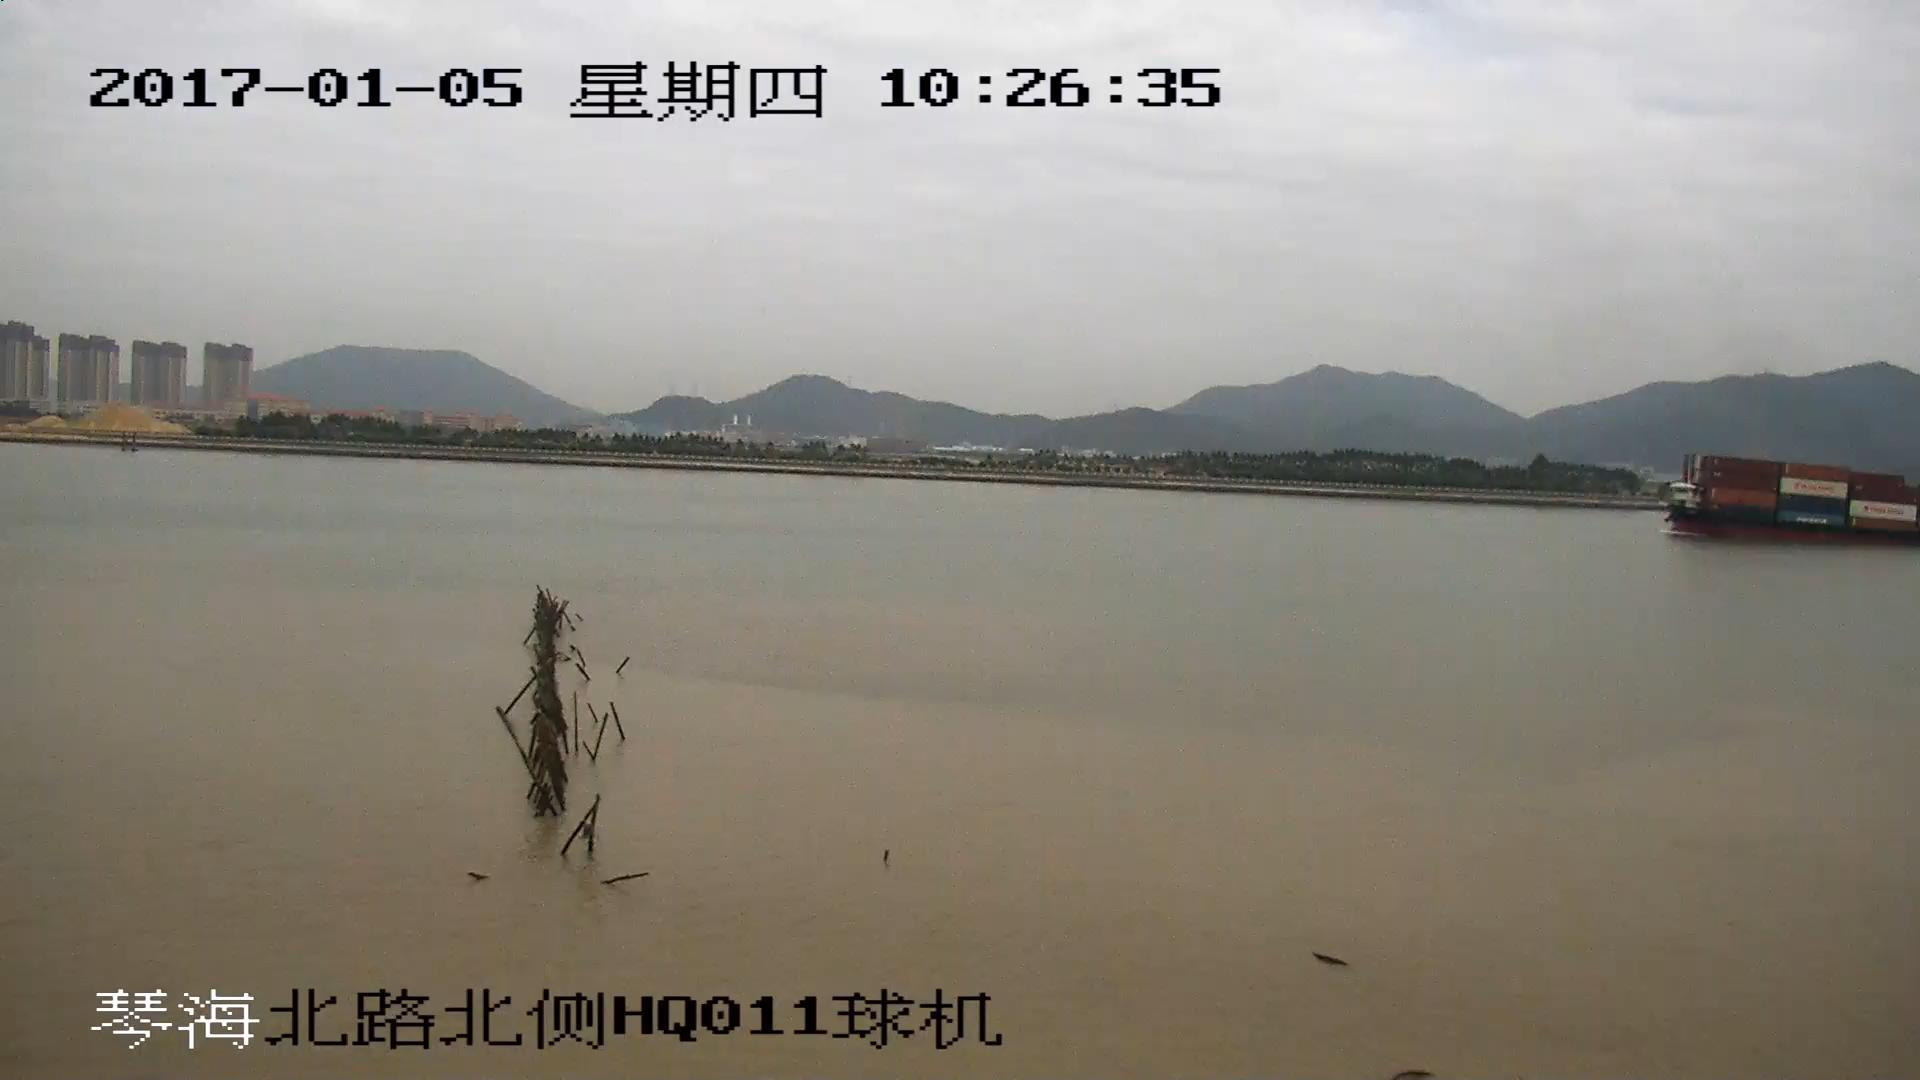Ship: (1668, 458, 1920, 541)
